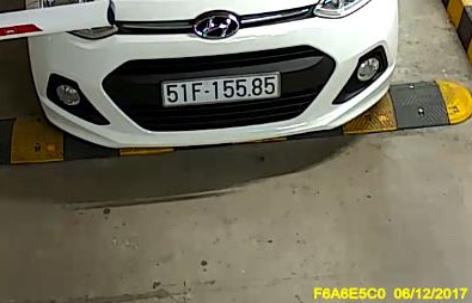plate: (159, 67, 287, 109)
